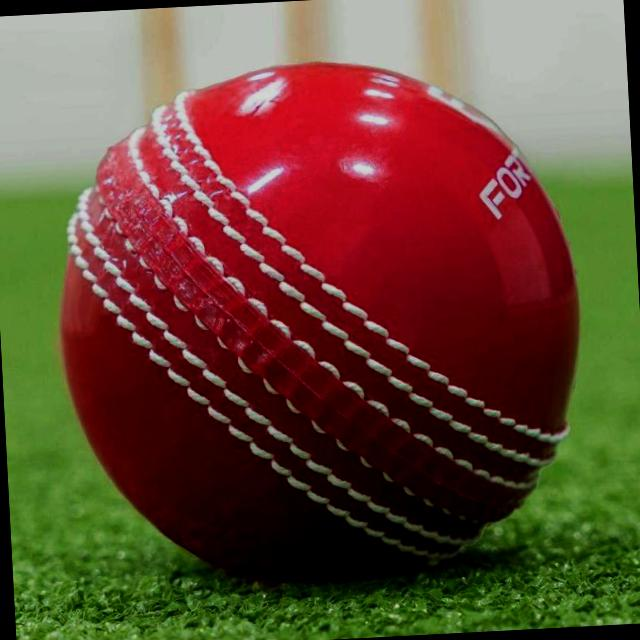ball: (41, 50, 592, 594)
